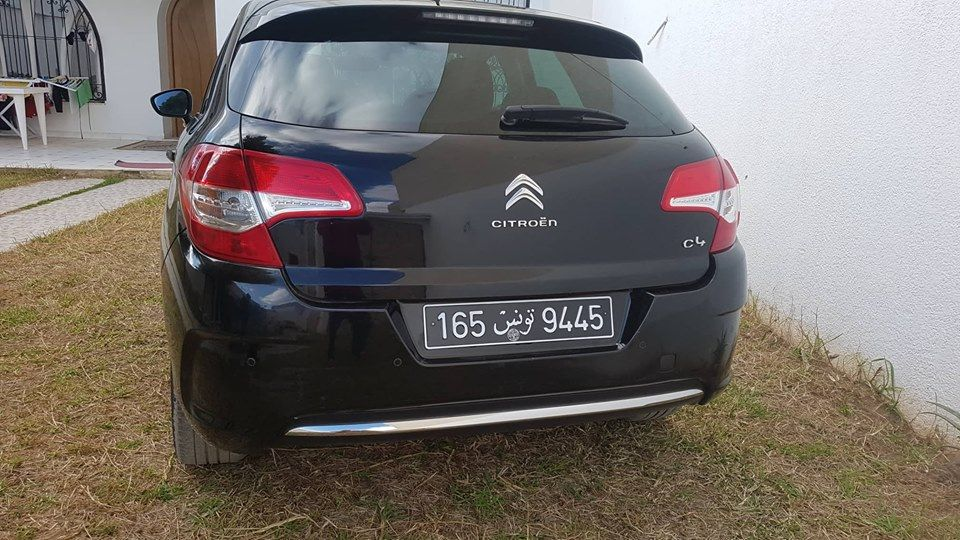LP: (423, 297, 615, 350)
